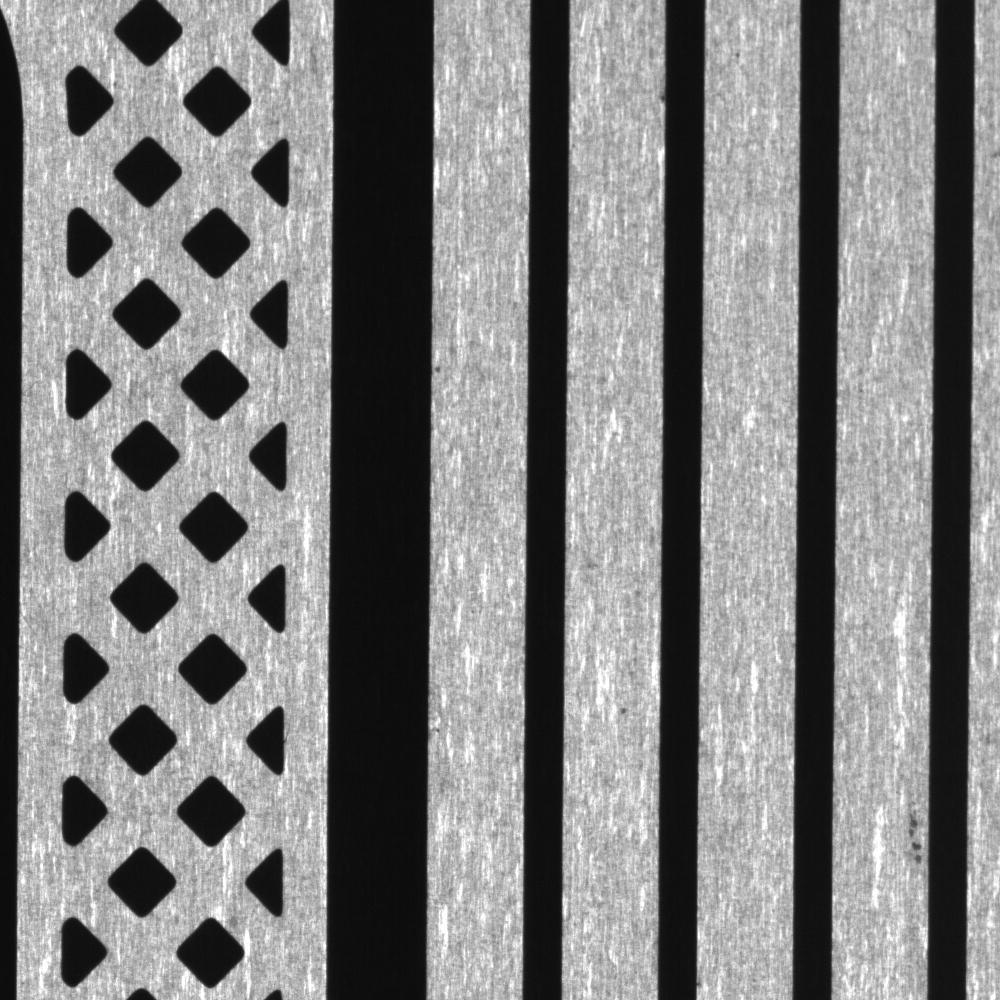Etching: (904, 796, 927, 876), (430, 352, 455, 389)
Pinhole: (610, 697, 640, 729)
